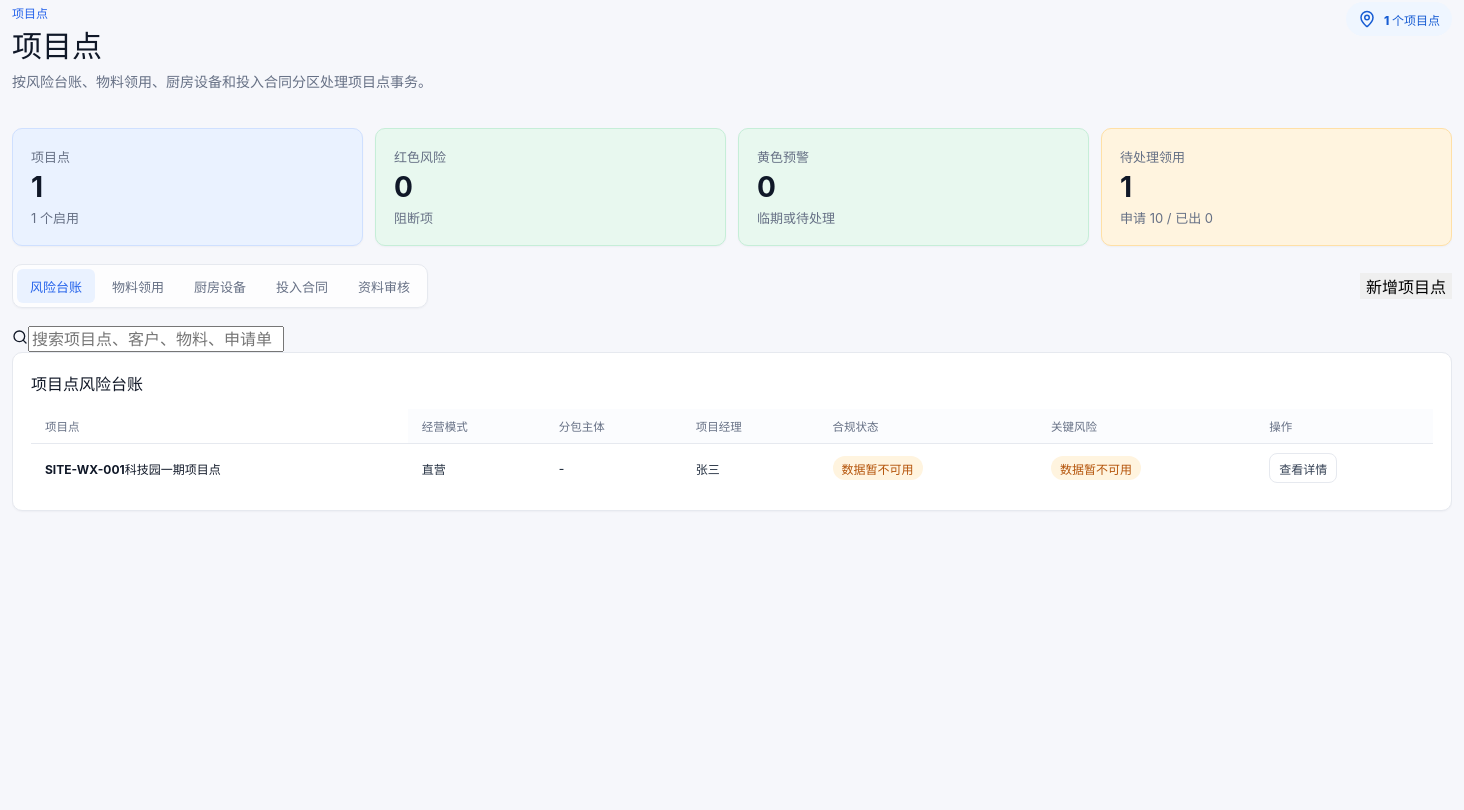
Test: Company ERP workspace components › does not render unavailable project-site roadmap items as disabled action buttons
The width and height of the screenshot is (1464, 810).
Expected: the heading "项目点" is shown, [12, 28, 102, 64]
Click the tab "资料审核" at (384, 286), box [345, 270, 423, 304]
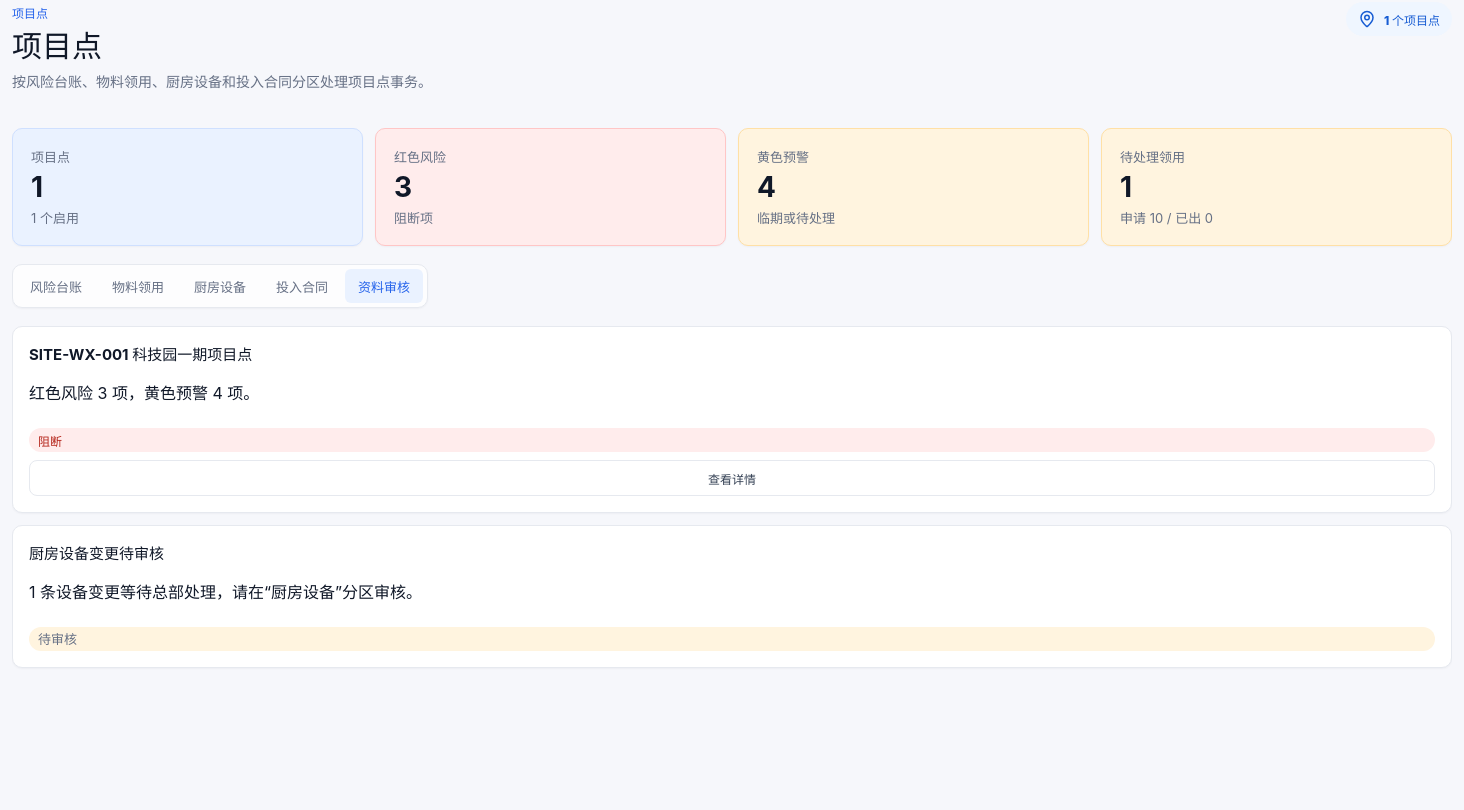
Now the element named "项目点资料审核队列" is shown, box [12, 326, 1452, 668]
